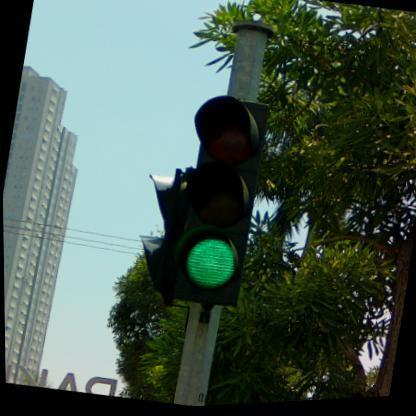green: (162, 92, 273, 315)
